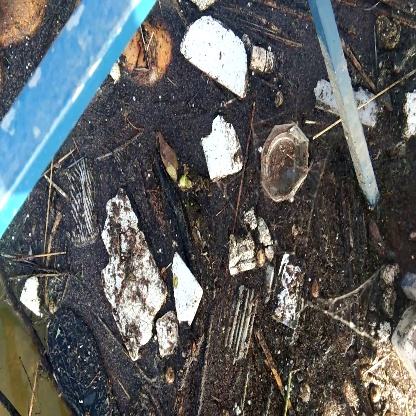plastic-garbage: (102, 189, 174, 351), (177, 11, 263, 102)
